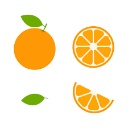orange: (11, 23, 59, 71)
